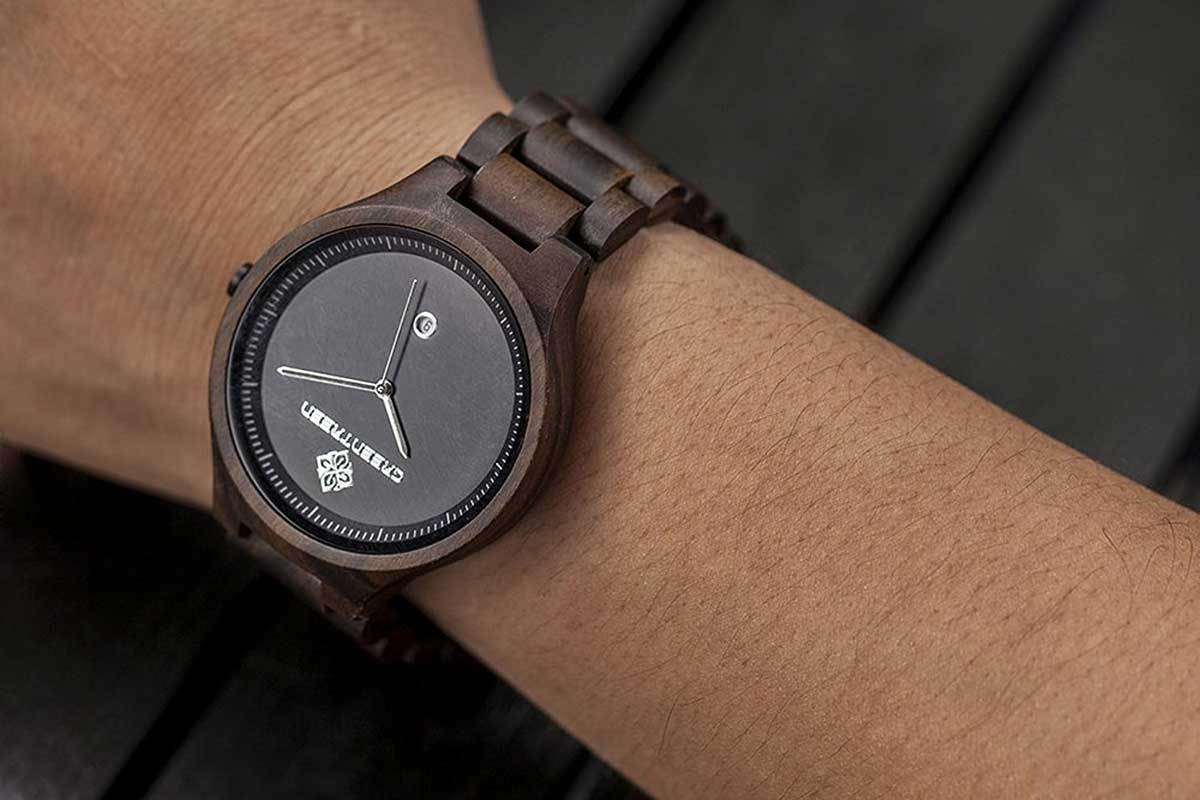clock: (209, 204, 552, 572)
